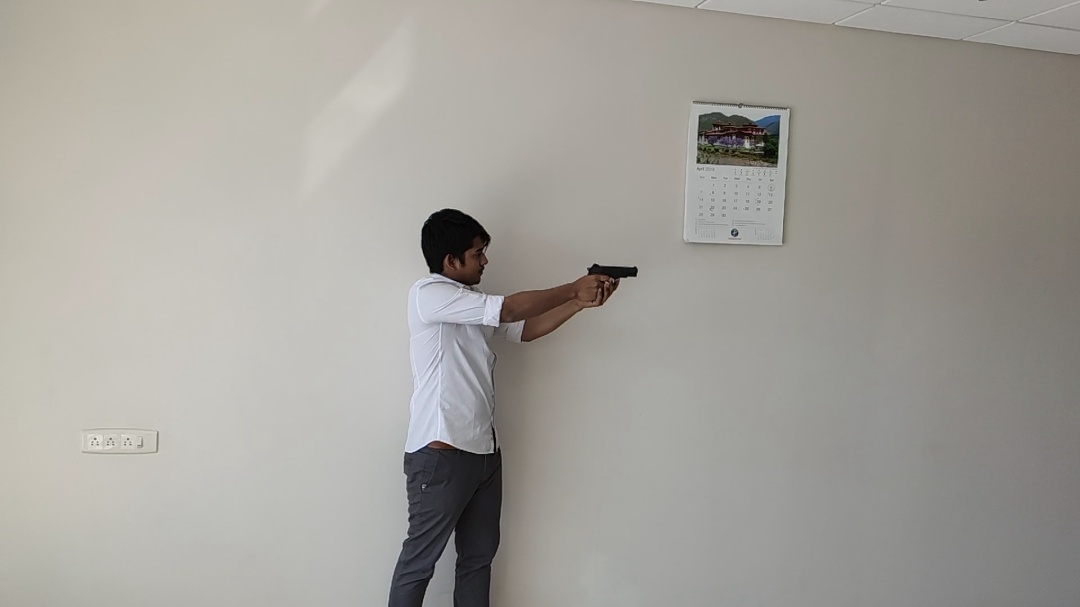gun: (587, 263, 639, 285)
